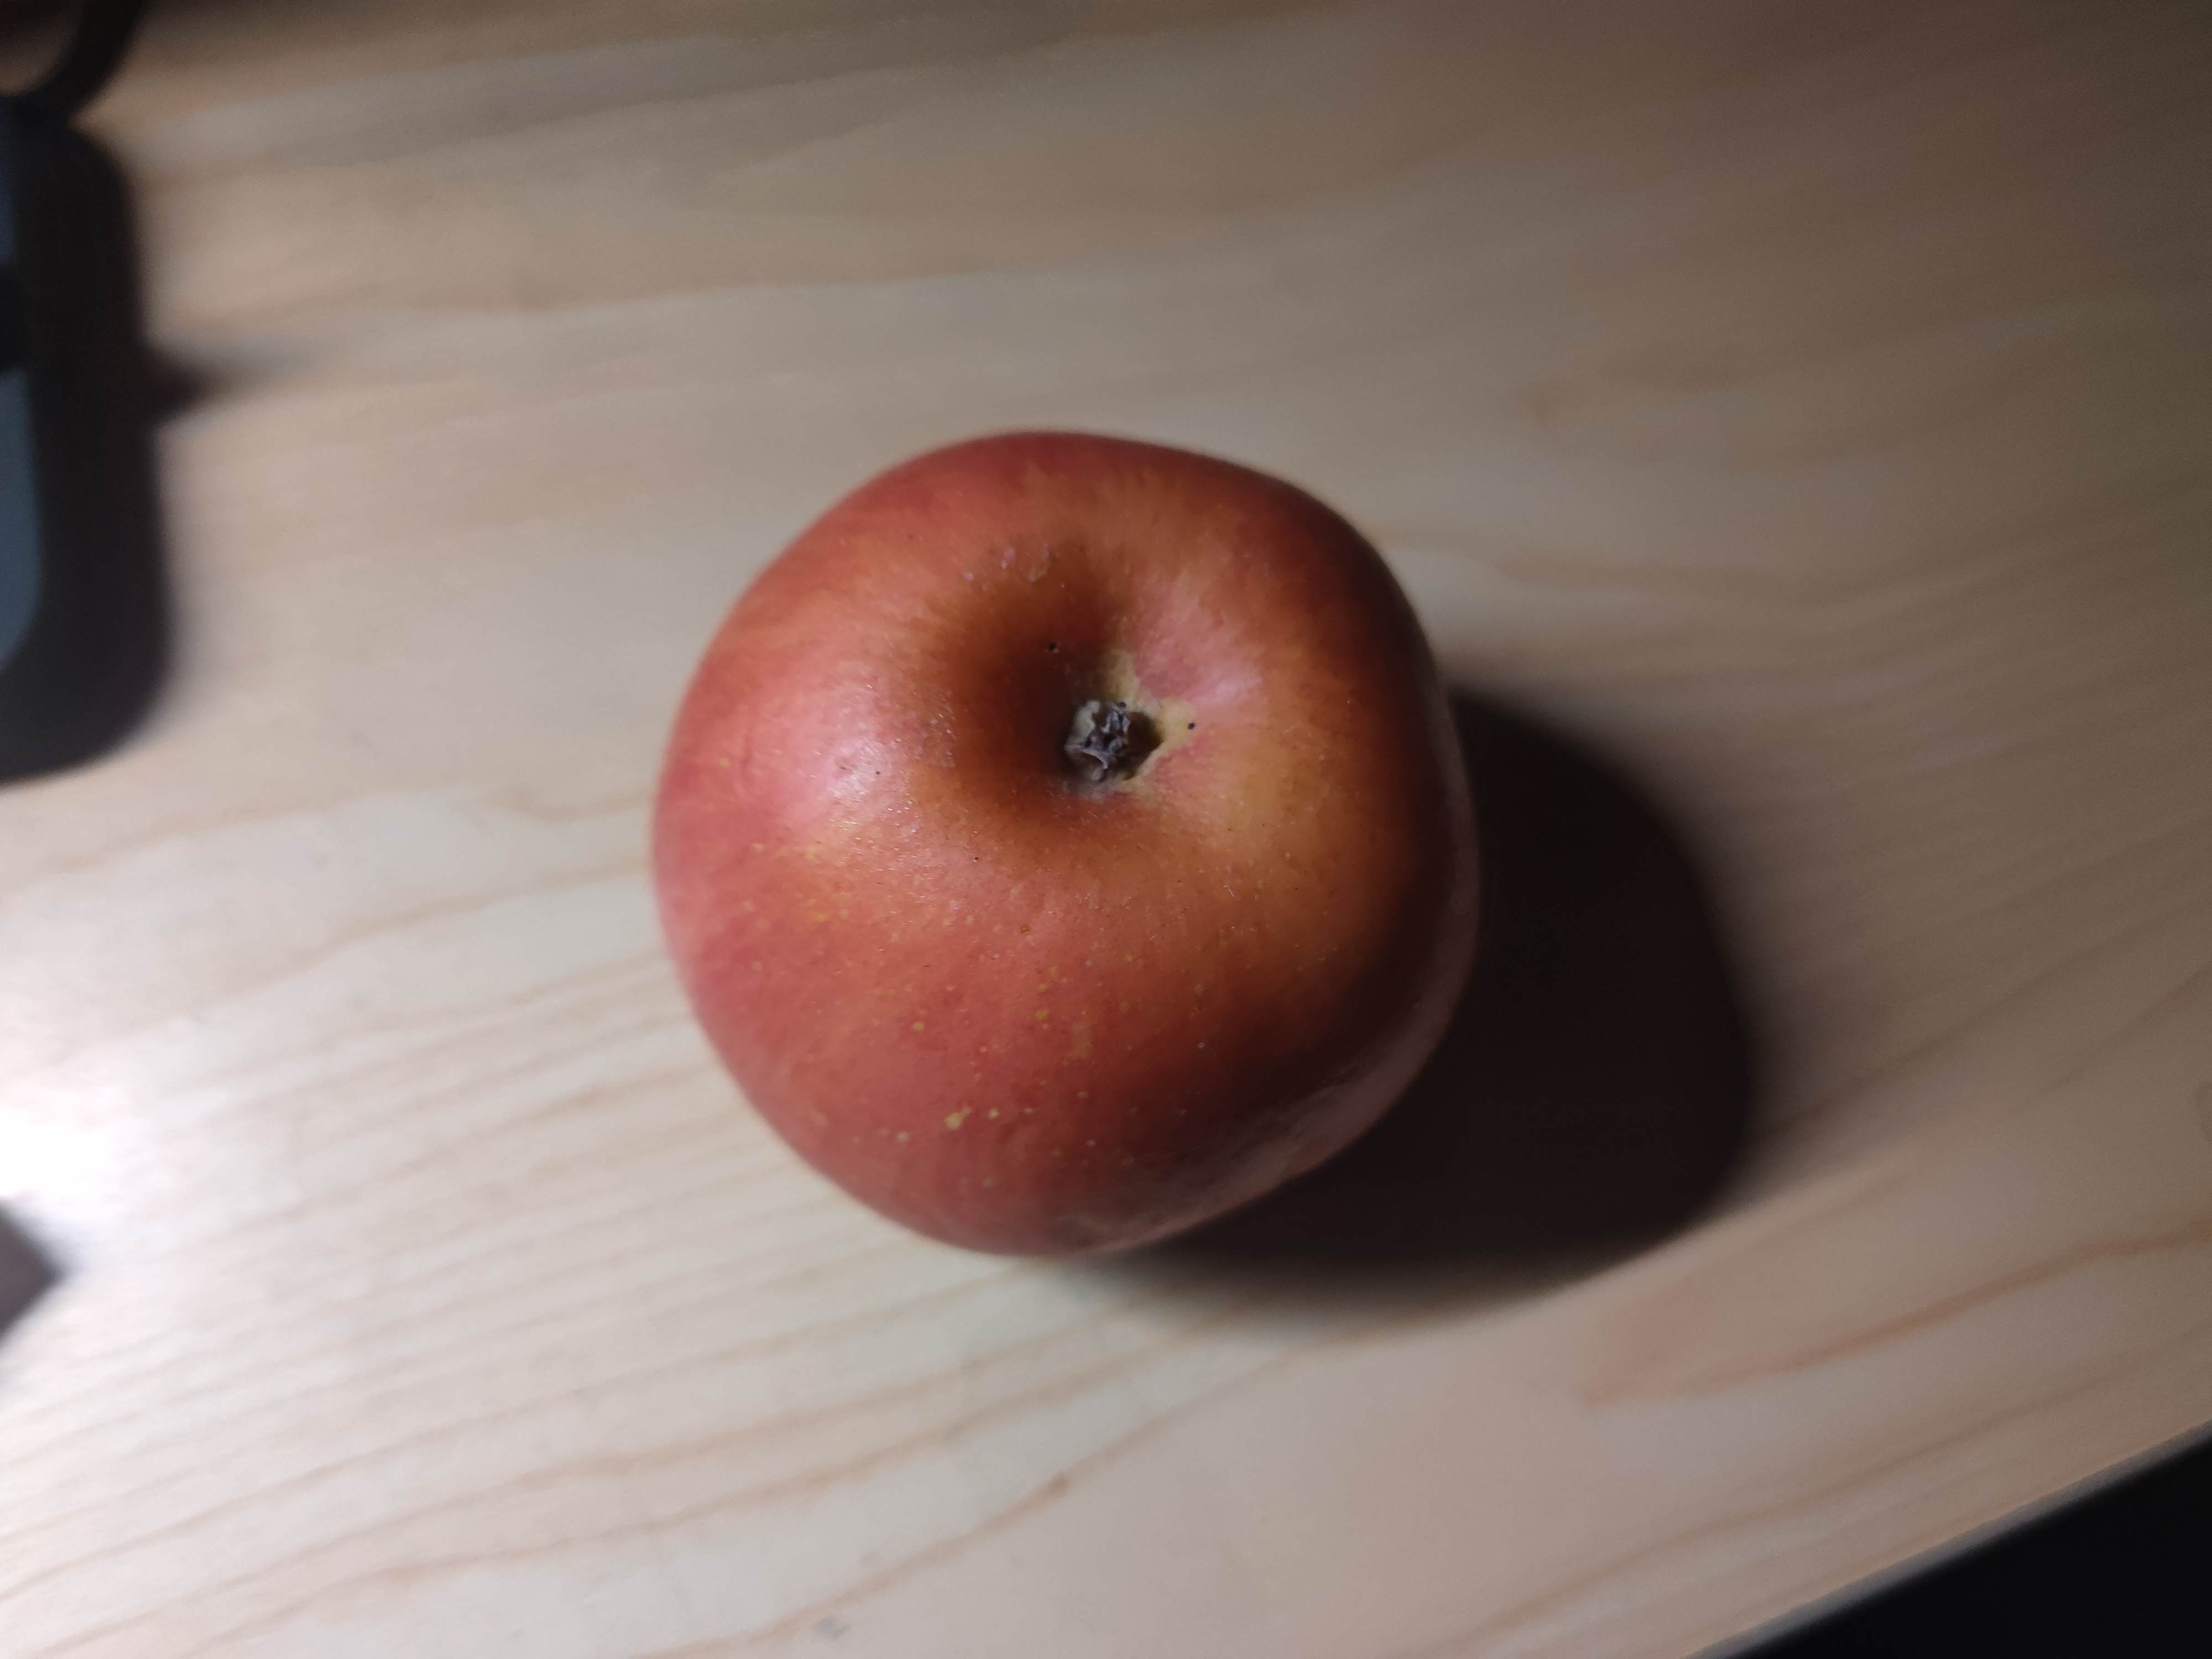apple: (646, 429, 1491, 1256)
